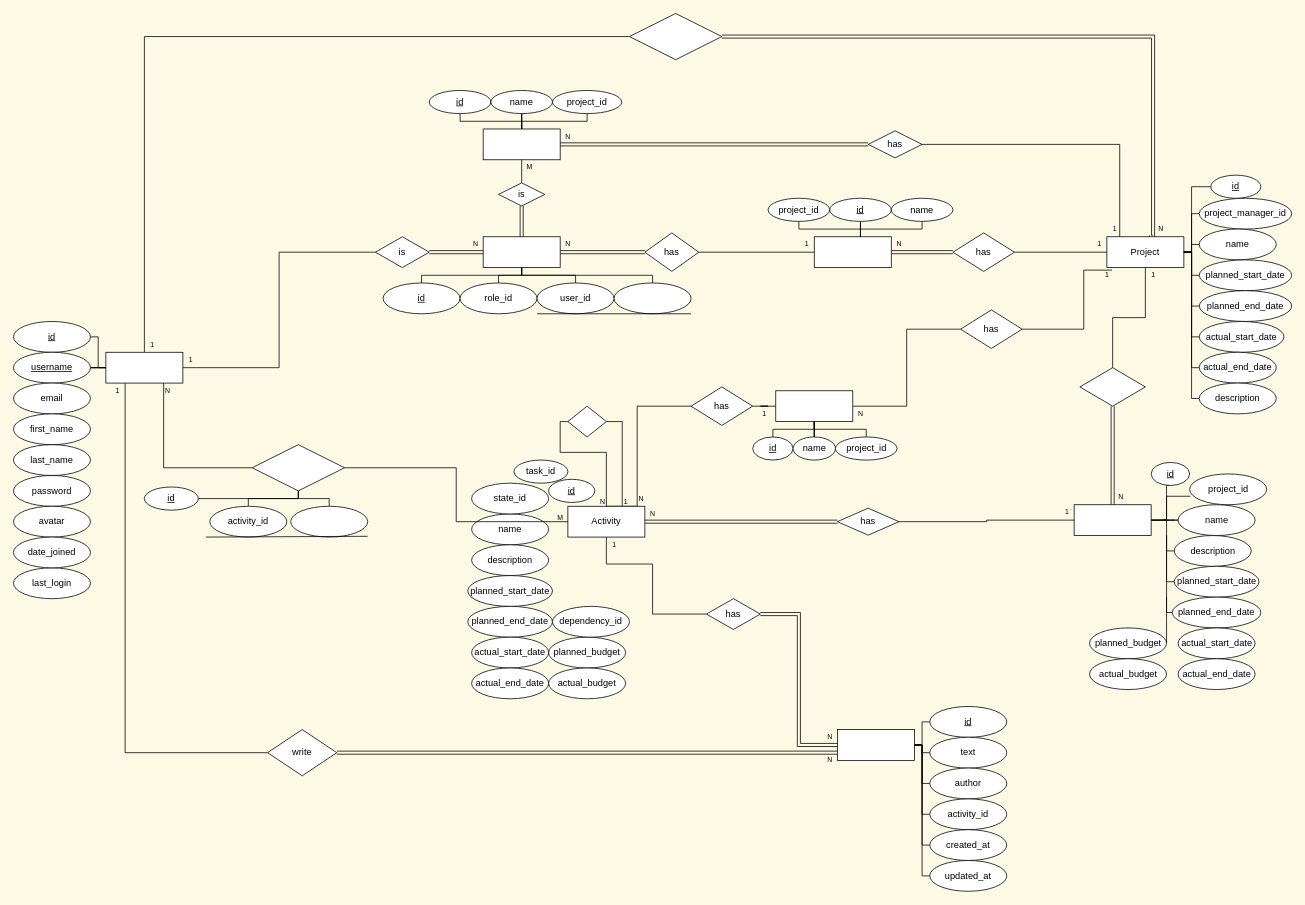
Some shapes in this 1305 by 905 pixel diagram are drawn without their labels. Here are the shapes that lost their labels. From the top down, the box of each, then its label:
(629, 13, 722, 60): manage
(482, 128, 560, 160): Role
(482, 236, 560, 268): TeamMember
(814, 236, 891, 268): Team
(613, 282, 691, 314): team_id
(105, 352, 183, 383): User
(1079, 367, 1145, 406): contain
(567, 405, 606, 437): depend
(775, 390, 853, 422): State
(251, 444, 345, 491): Assigned
(290, 506, 368, 537): employee_id
(1073, 504, 1151, 536): Task
(837, 729, 914, 760): Comment
